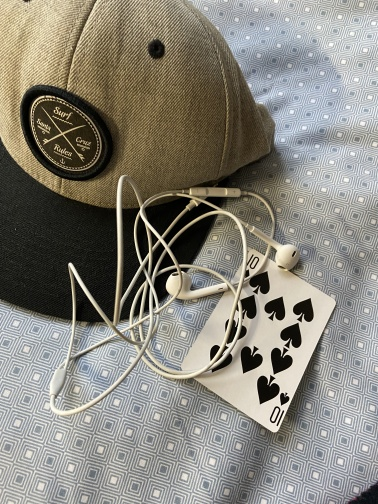ten: (179, 248, 338, 435)
